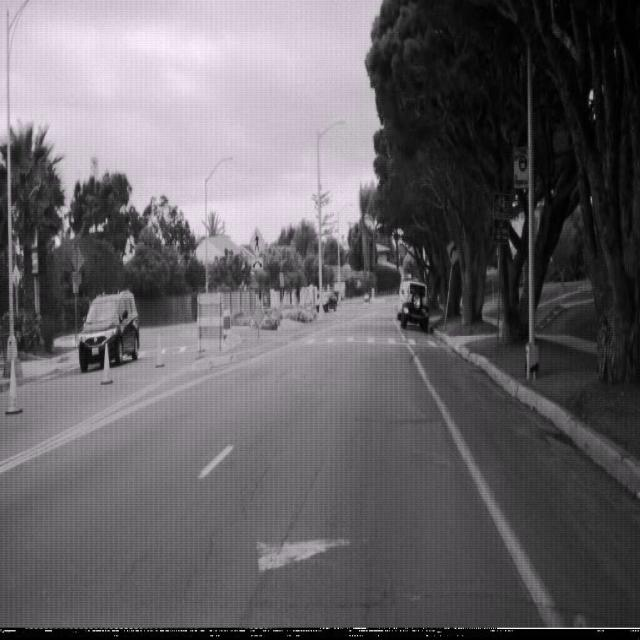pedestrianCrossing: (248, 226, 266, 260)
